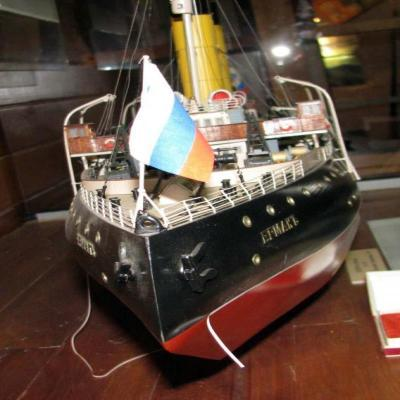other: (63, 0, 360, 366)
